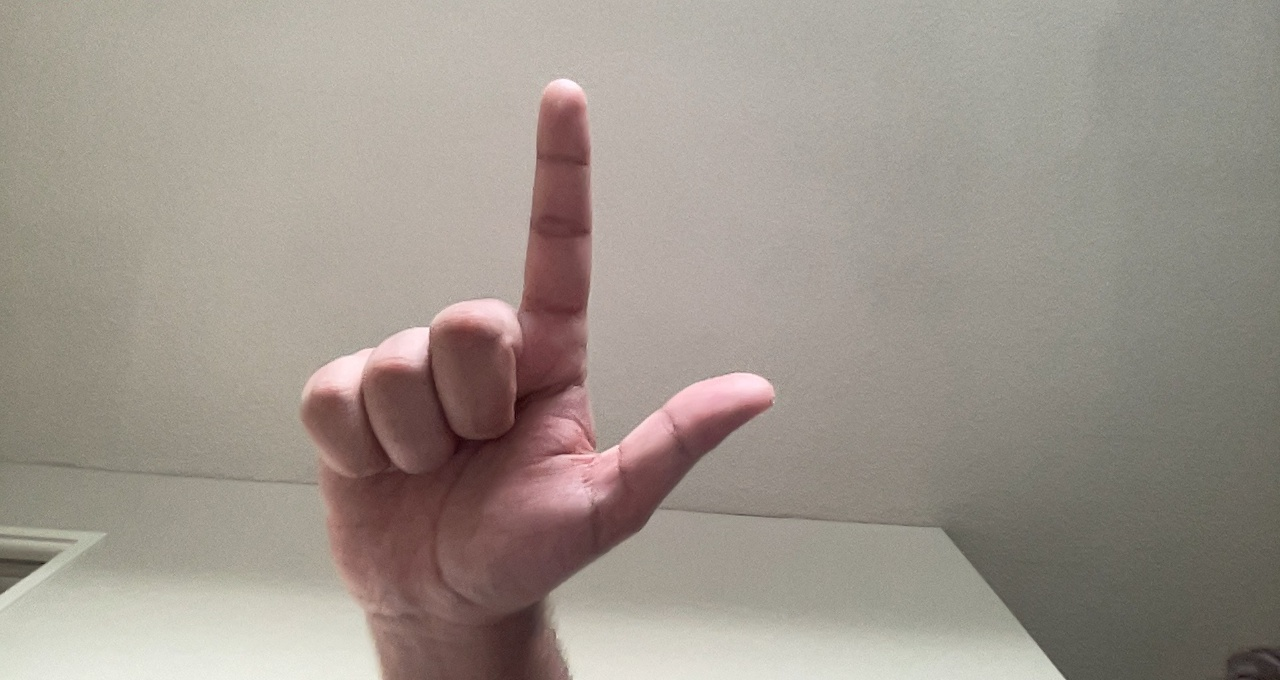L: (274, 72, 785, 666)
